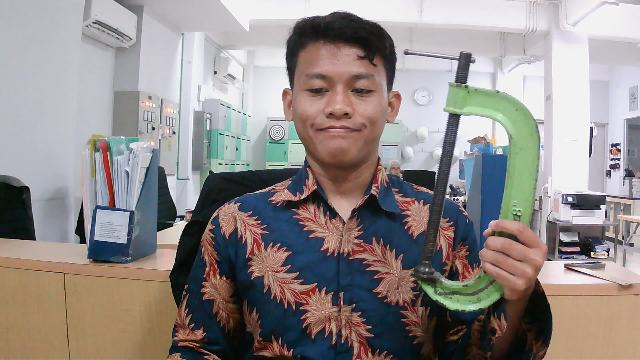tekiro_c_clamp: (401, 38, 547, 316)
